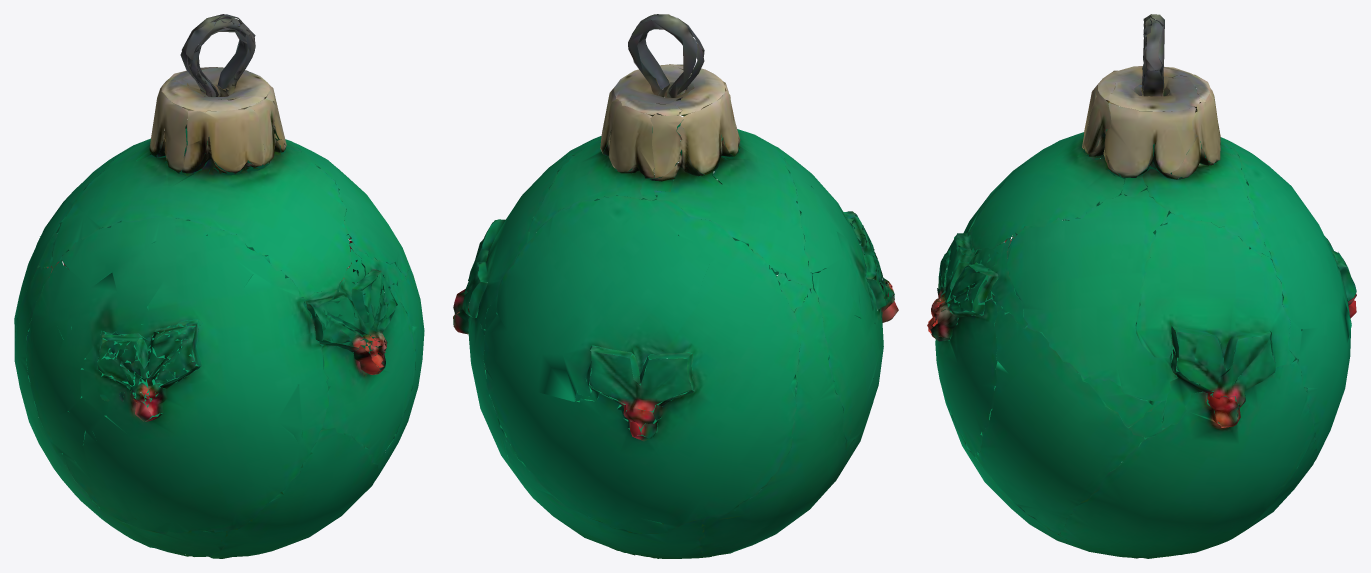
File: ornamentC.glb
3 views of the same model, side by side, from view 1: azimuth 30°, elevation 25°; view 2: azimuth 150°, elevation 25°; view 3: azimuth 270°, elevation 25° (orthographic).
Visible parts, largest first — view 1: Ornament_C; view 2: Ornament_C; view 3: Ornament_C.
Boxes of the visible parts, x1,y1,x2,y2 form: Ornament_C: (14, 14, 424, 558); Ornament_C: (453, 14, 898, 558); Ornament_C: (927, 14, 1356, 558).
Size of the model in its own units: 0.1197 by 0.16 by 0.1236.
1 material, 1 textured.
